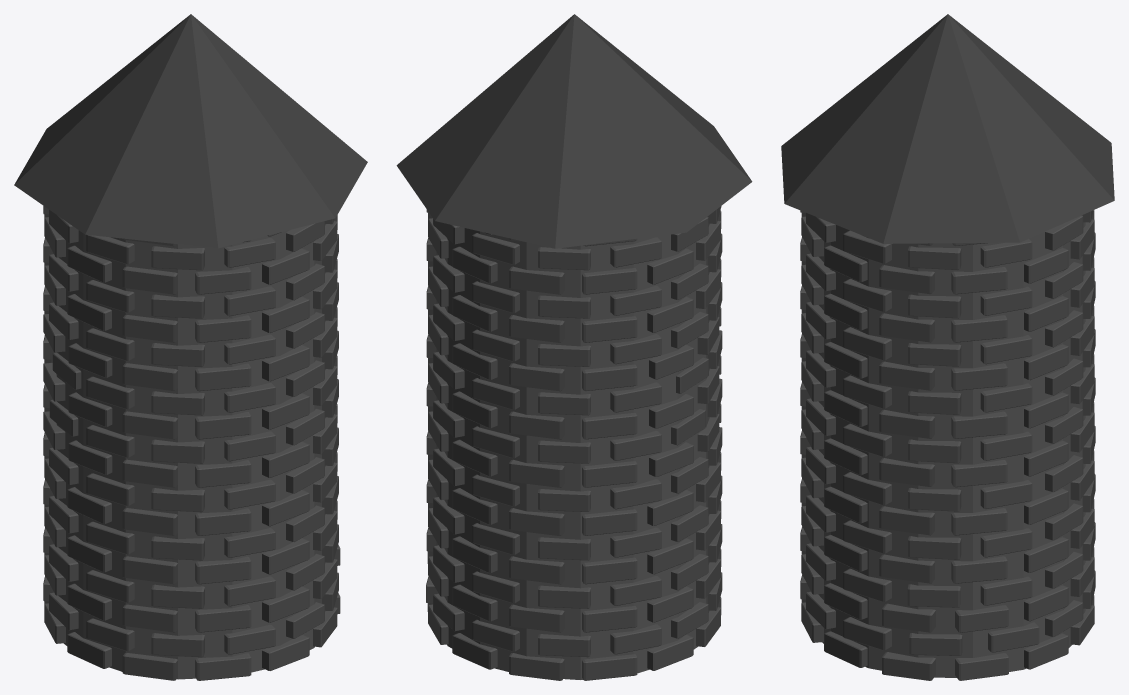
File: tower_no_door.fbx
The picture shows the model from 3 angles, left to right: view 1: azimuth 30°, elevation 25°; view 2: azimuth 150°, elevation 25°; view 3: azimuth 270°, elevation 25°; orthographic projection.
Visible parts, largest first — view 1: tower_no_door; view 2: tower_no_door; view 3: tower_no_door.
Boxes of the visible parts, bbox=[...] form: tower_no_door: bbox=[14, 14, 367, 680]; tower_no_door: bbox=[396, 14, 752, 680]; tower_no_door: bbox=[781, 14, 1114, 680].
Size of the model in its own units: 1147 by 2300 by 1147.
